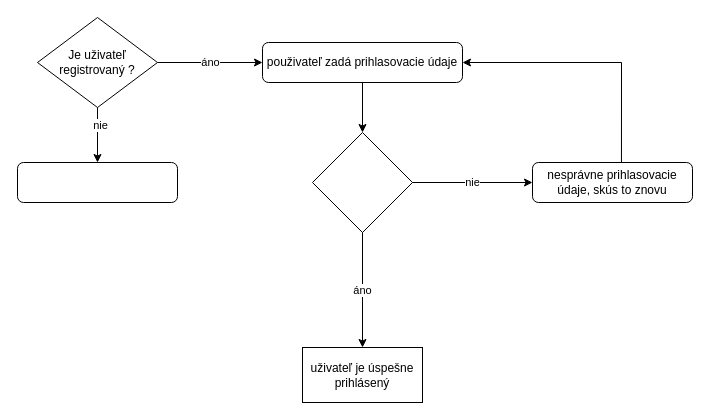
Some shapes in this 710 by 420 pixel diagram are drawn without their labels. Here are the shapes that lost their labels. From the top down, the box of each, then its label:
(16, 162, 178, 202): uživateľ sa registruje
(312, 132, 412, 232): boli správne ?
